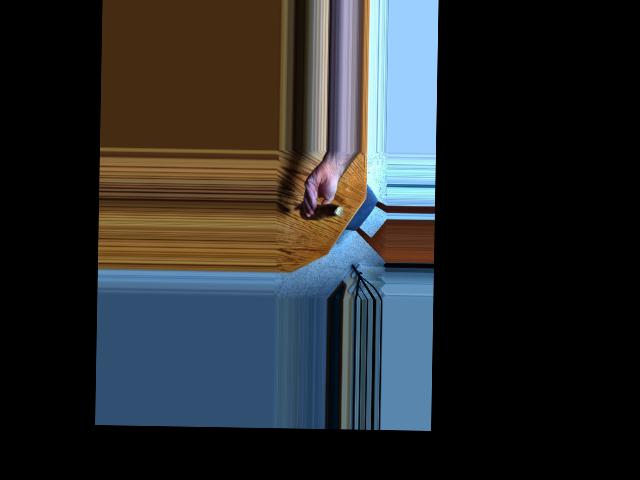sweet_potato: (305, 198, 341, 223)
